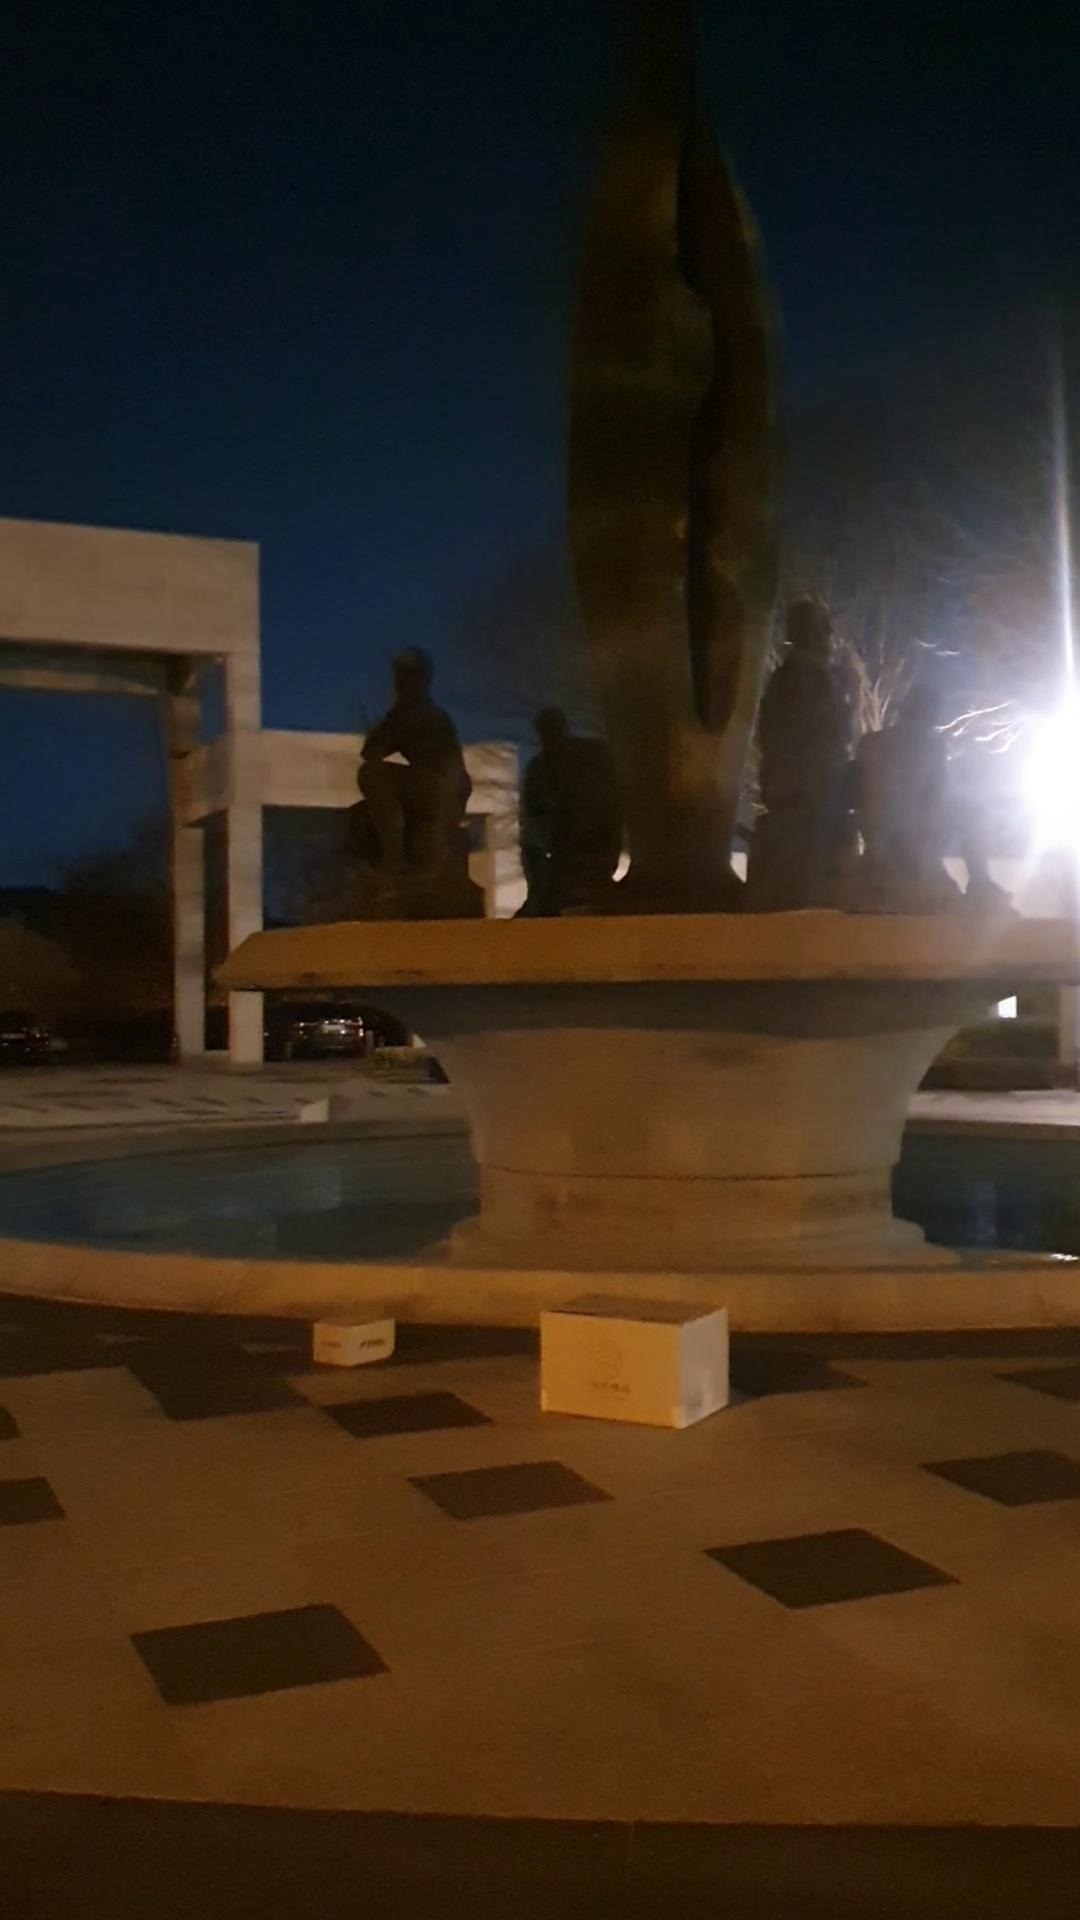Box: (527, 1284, 737, 1440), (306, 1308, 390, 1364)
